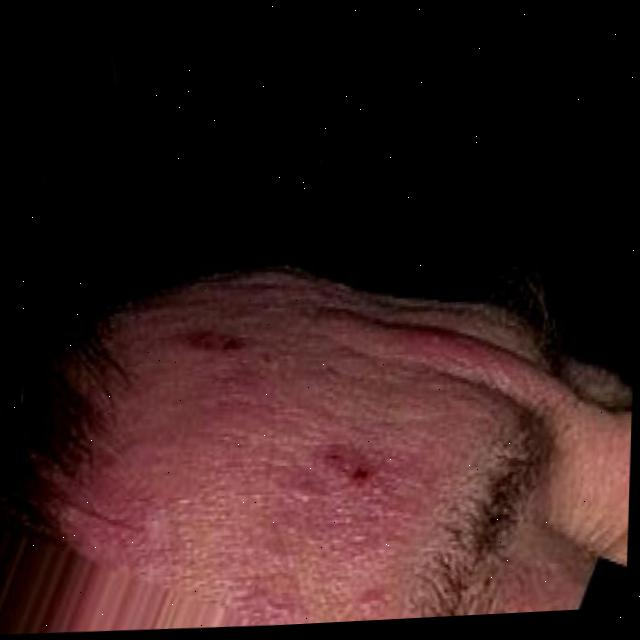Rosacea: (147, 318, 413, 620), (401, 313, 526, 386)
